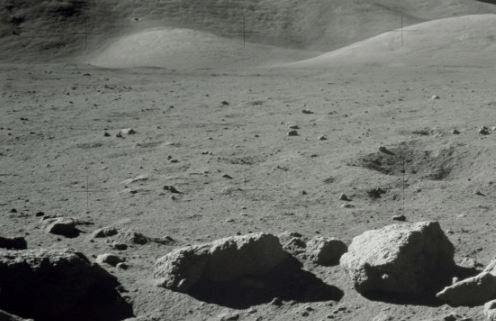rock: (340, 222, 455, 295), (151, 234, 287, 291)
